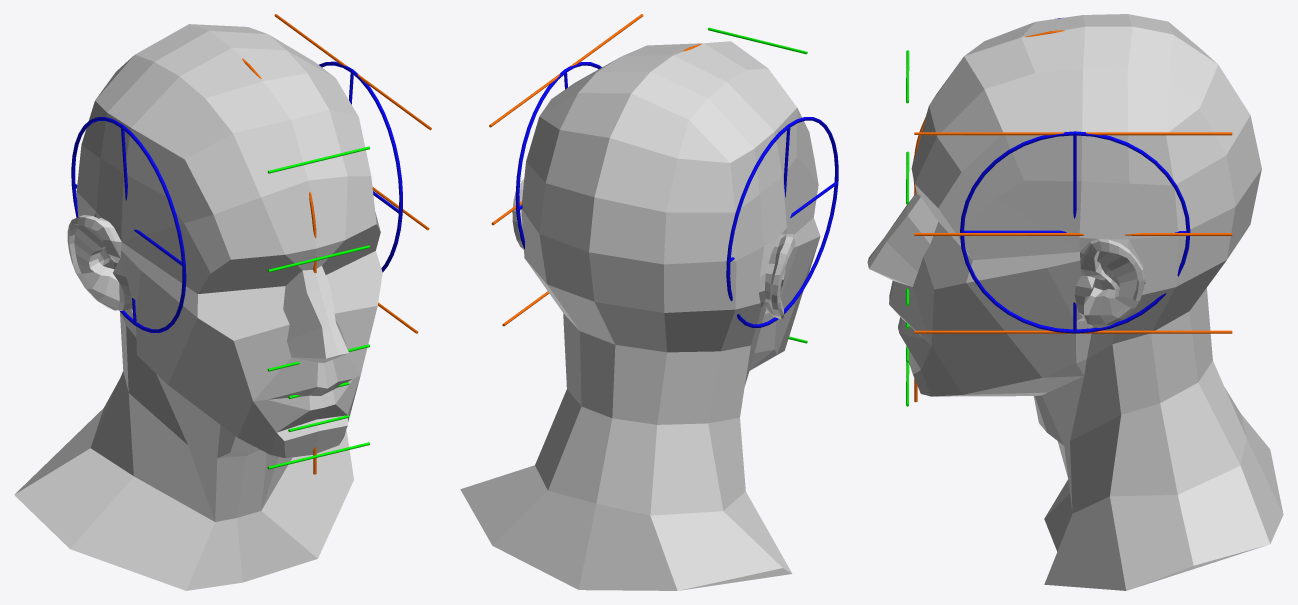
3 views of the same model, side by side, from view 1: azimuth 30°, elevation 25°; view 2: azimuth 150°, elevation 25°; view 3: azimuth 270°, elevation 25° (orthographic). The views are drawn at different scales.
Parts seen in each view (by area): view 1: Model, Right_Side_Plane_Guide, Left_Side_Plane_Guide, Side_Plane_Horizontal_Top_Guide; view 2: Model, Right_Side_Plane_Guide, Left_Side_Plane_Guide, Side_Plane_Horizontal_Top_Guide; view 3: Model, Left_Side_Plane_Guide, Side_Plane_Horizontal_Bottom_Guide, Side_Plane_Horizontal_Top_Guide, Side_Plane_Horizontal_Middle_Guide.
Part boxes in pixels (x1,y1,x2,y2): Model: (14,24,382,590); Right_Side_Plane_Guide: (71,117,186,332); Left_Side_Plane_Guide: (319,61,402,272); Side_Plane_Horizontal_Top_Guide: (274,14,431,130); Model: (460,41,820,590); Right_Side_Plane_Guide: (726,117,838,327); Left_Side_Plane_Guide: (515,62,601,249); Side_Plane_Horizontal_Top_Guide: (489,14,643,127); Model: (867,14,1283,590); Left_Side_Plane_Guide: (960,131,1190,333); Side_Plane_Horizontal_Bottom_Guide: (914,330,1232,333); Side_Plane_Horizontal_Top_Guide: (914,132,1232,135); Side_Plane_Horizontal_Middle_Guide: (914,233,1232,235).
Size of the model in its own units: 6.28 by 9.57 by 6.68.
